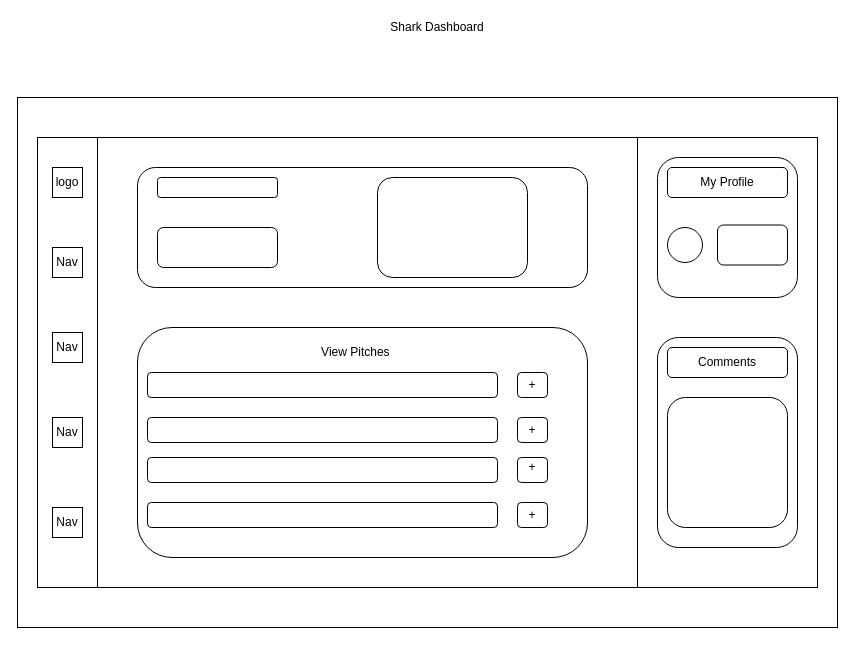
Some shapes in this 855 by 645 pixel diagram are drawn without their labels. Here are the shapes that lost their labels. From the top down, the centre of each, then its label:
(x=217, y=187): Date
(x=217, y=247): Welcome, Luke
(x=452, y=227): SVG Image
(x=684, y=244): Pic
(x=752, y=244): Info
(x=727, y=462): Actual Comments
